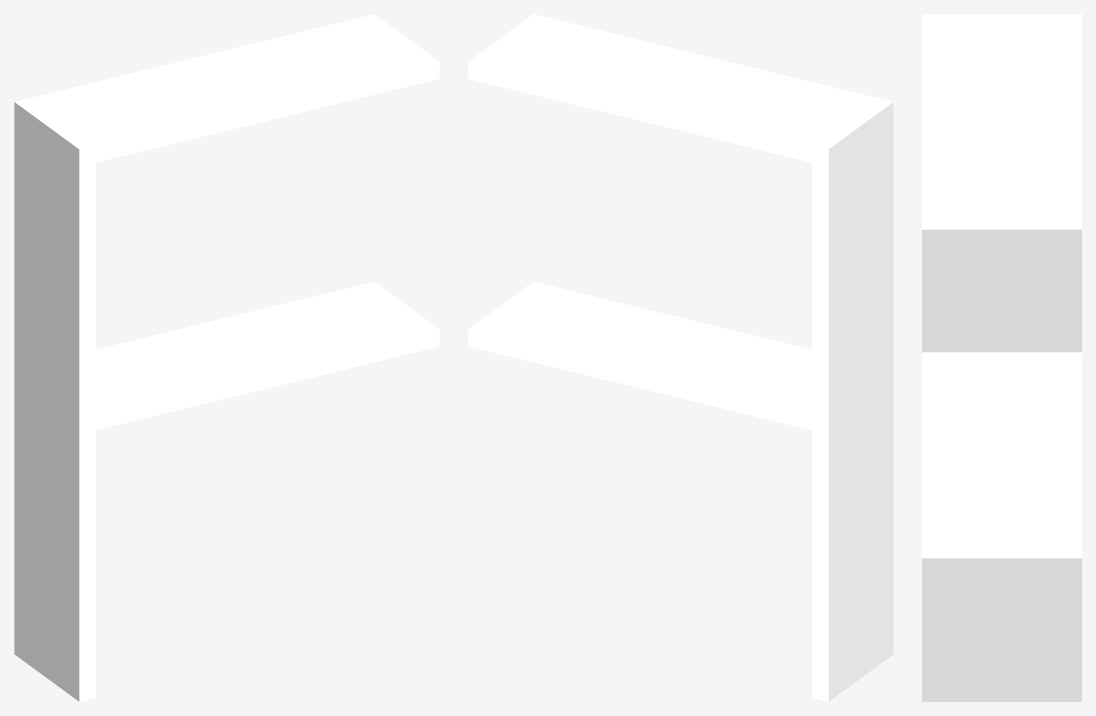
File: 09b49e48-cbcf-41fa-a35c-2e89a4b8fa4f.glb
The picture shows the model from 3 angles, left to right: view 1: azimuth 30°, elevation 25°; view 2: azimuth 150°, elevation 25°; view 3: azimuth 270°, elevation 25°; orthographic projection. The views are drawn at different scales.
Parts seen in each view (by area): view 1: f_AlphaProta_White; view 2: f_AlphaProta_White; view 3: f_AlphaProta_White.
Boxes of the visible parts, bbox=[...] form: f_AlphaProta_White: bbox=[14, 14, 439, 701]; f_AlphaProta_White: bbox=[468, 14, 893, 701]; f_AlphaProta_White: bbox=[922, 14, 1081, 701].
Size of what is drawn, in the model's own units: 0.1436 by 0.2105 by 0.045.
Materials: 2 (2 with a texture image).
